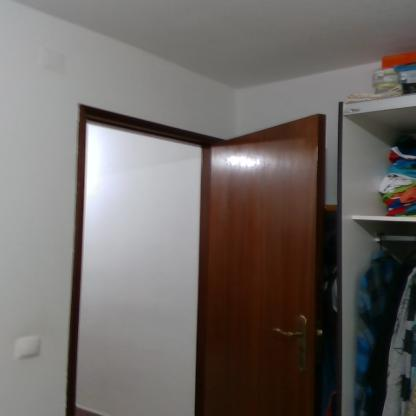semi: (58, 110, 314, 416)
